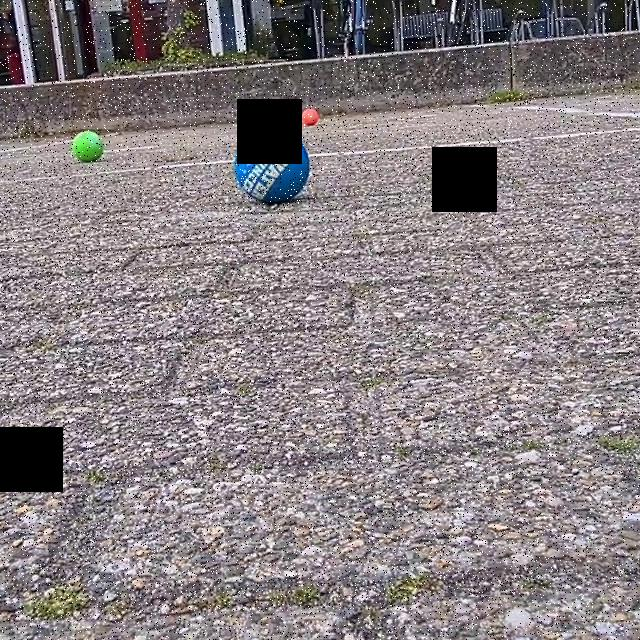ball: (69, 128, 107, 166), (299, 104, 320, 128)
